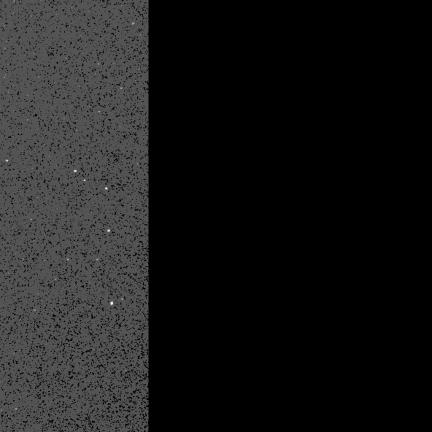blob: (108, 230, 111, 233), (74, 170, 77, 173), (6, 160, 9, 162), (111, 302, 113, 305), (106, 188, 108, 190)
